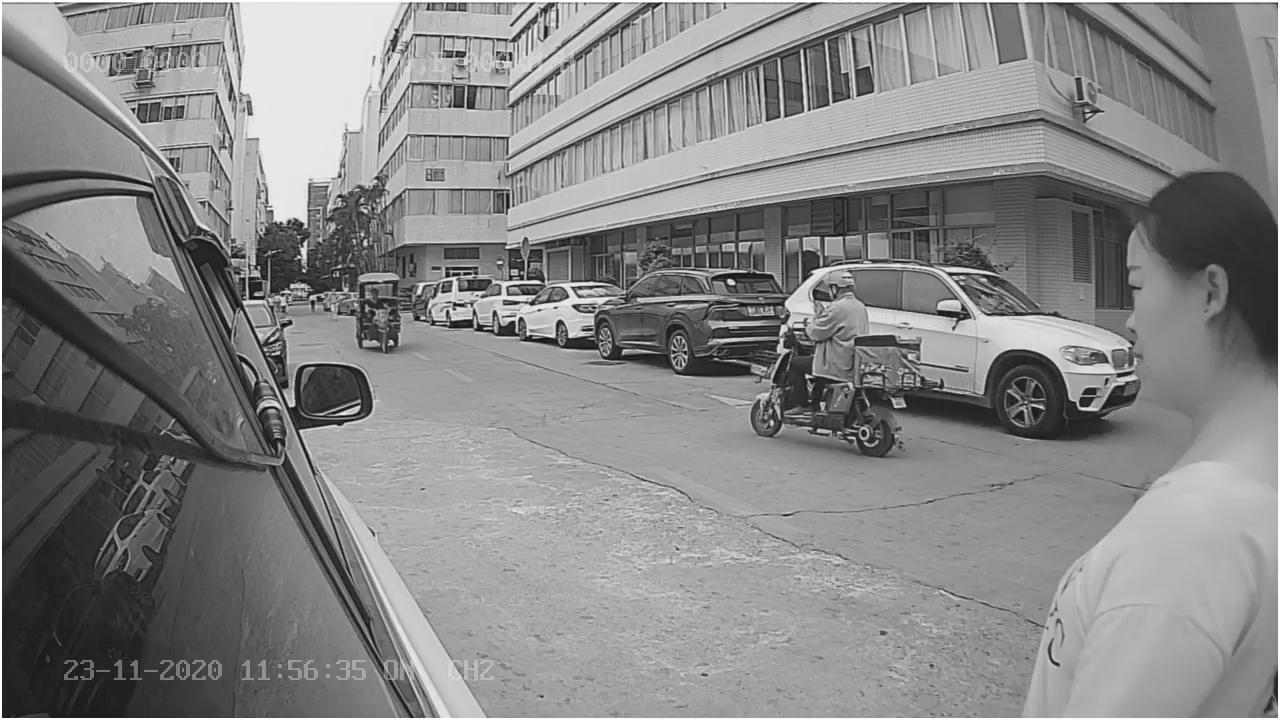person: (804, 267, 875, 339)
